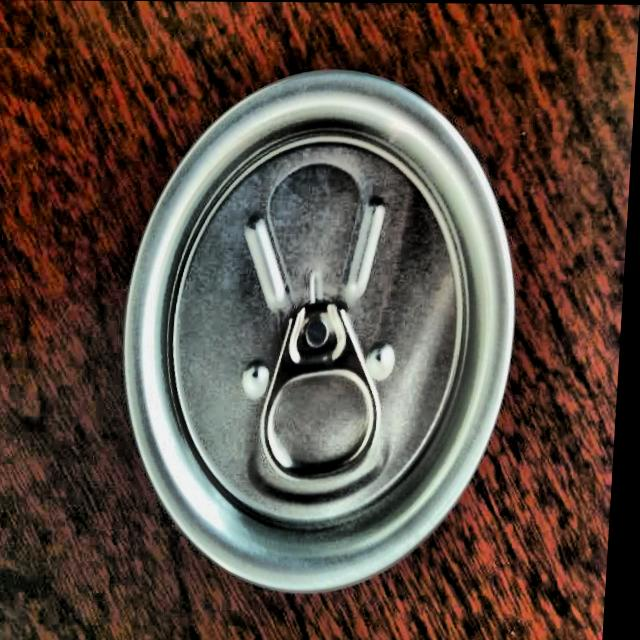can: (105, 60, 536, 600)
